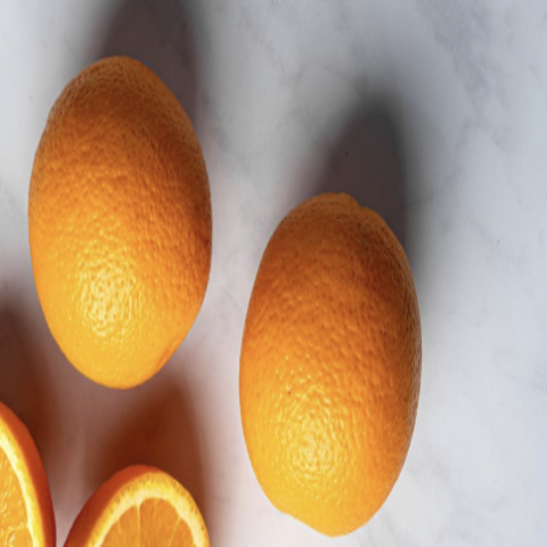orange: (221, 184, 431, 543), (11, 61, 226, 398)
